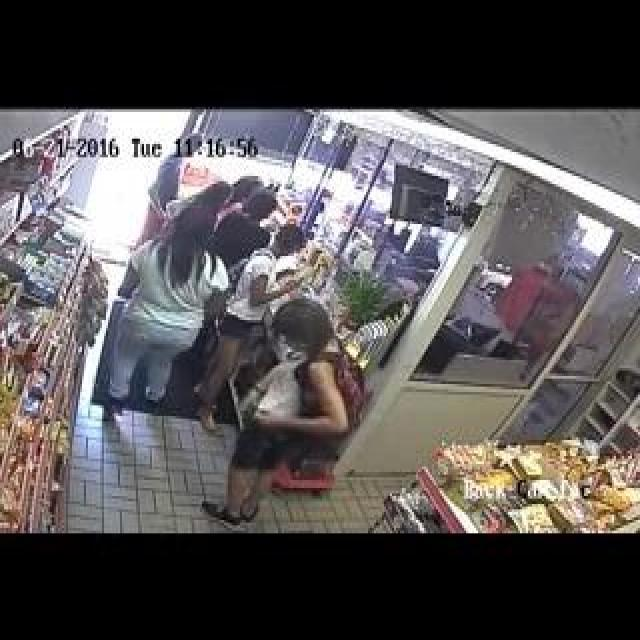Shoplifting: (210, 286, 384, 534)
